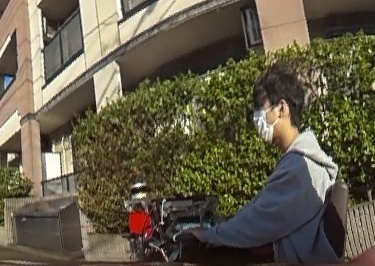person: (197, 71, 346, 266)
